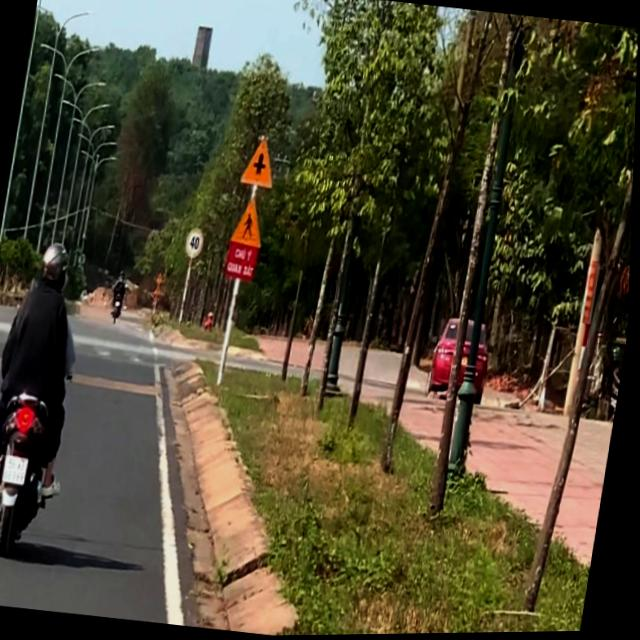Giao nhau voi duong khong uu tien: (237, 130, 284, 195)
Nguoi di bo cat ngang: (229, 192, 272, 253)
Toc do toi da cho phep: (184, 224, 210, 261)
